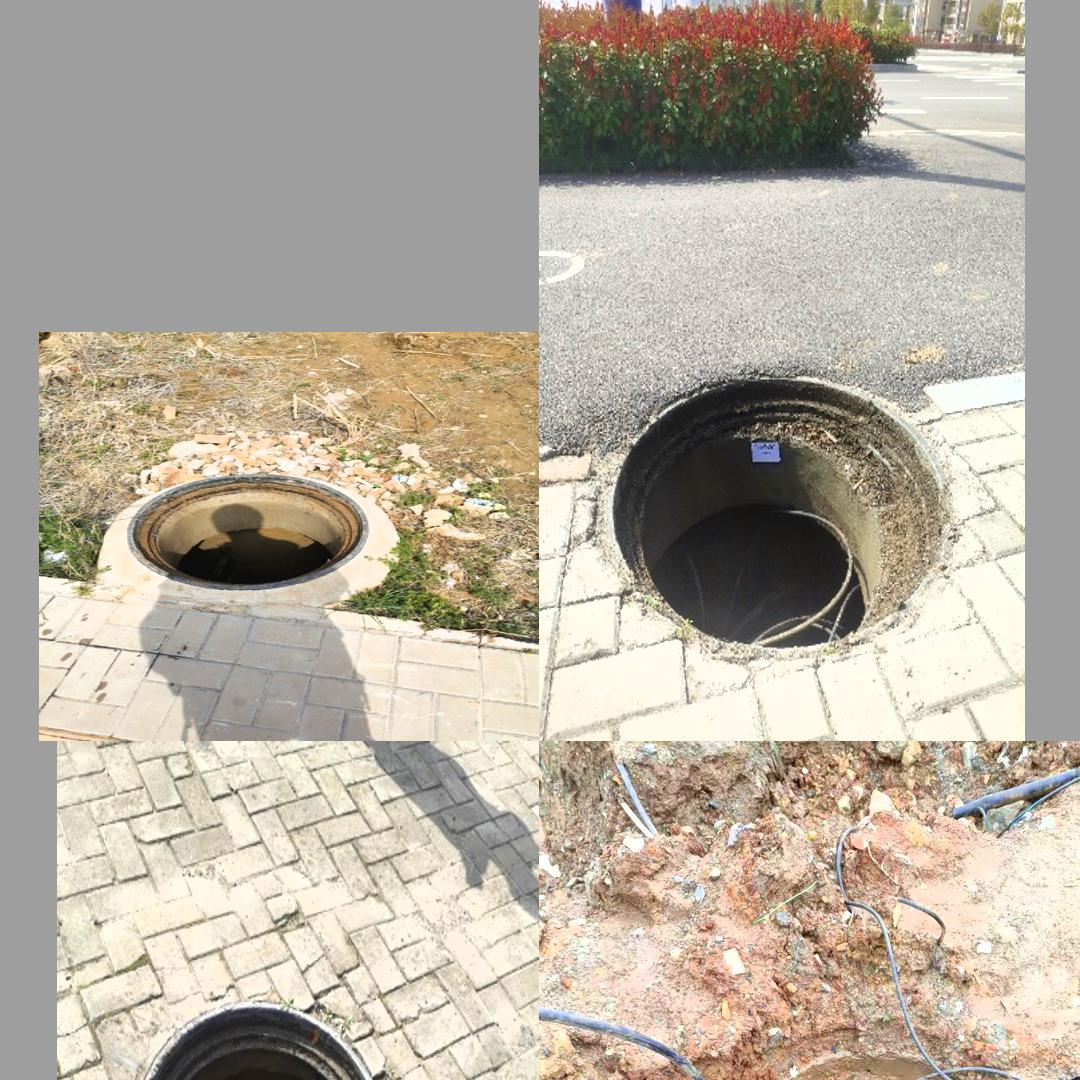lose: (601, 373, 956, 660), (124, 473, 369, 592), (128, 978, 410, 1080), (722, 1046, 1051, 1080)
